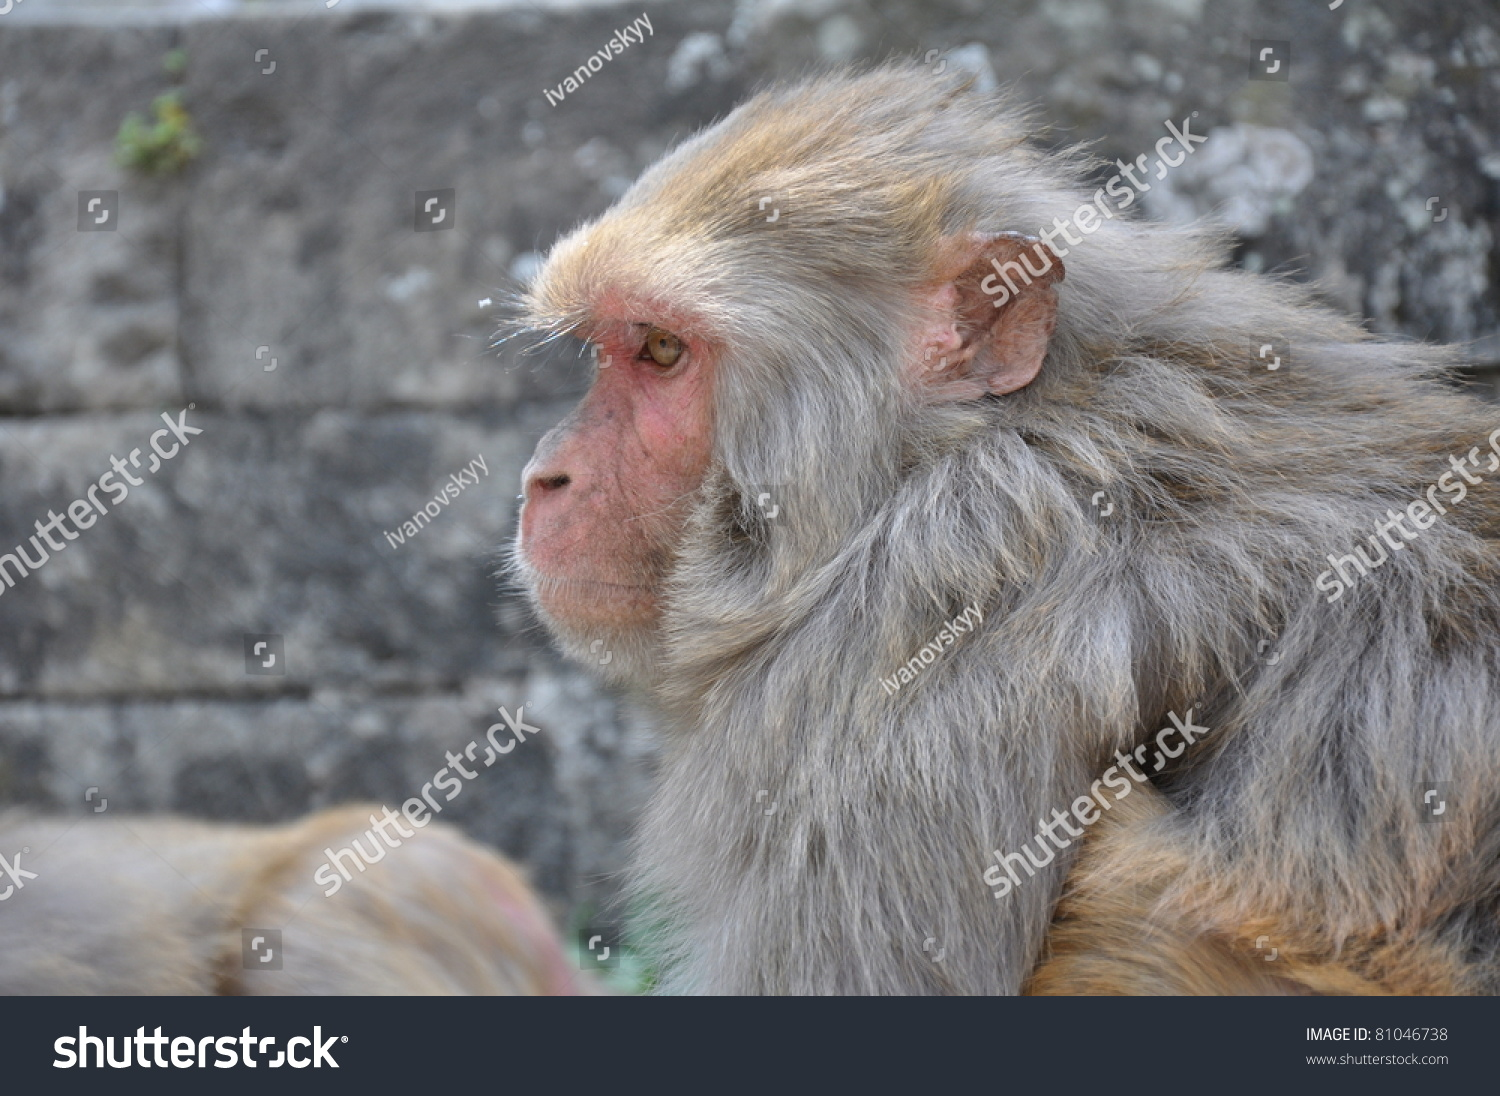monkey: (500, 62, 1497, 995)
